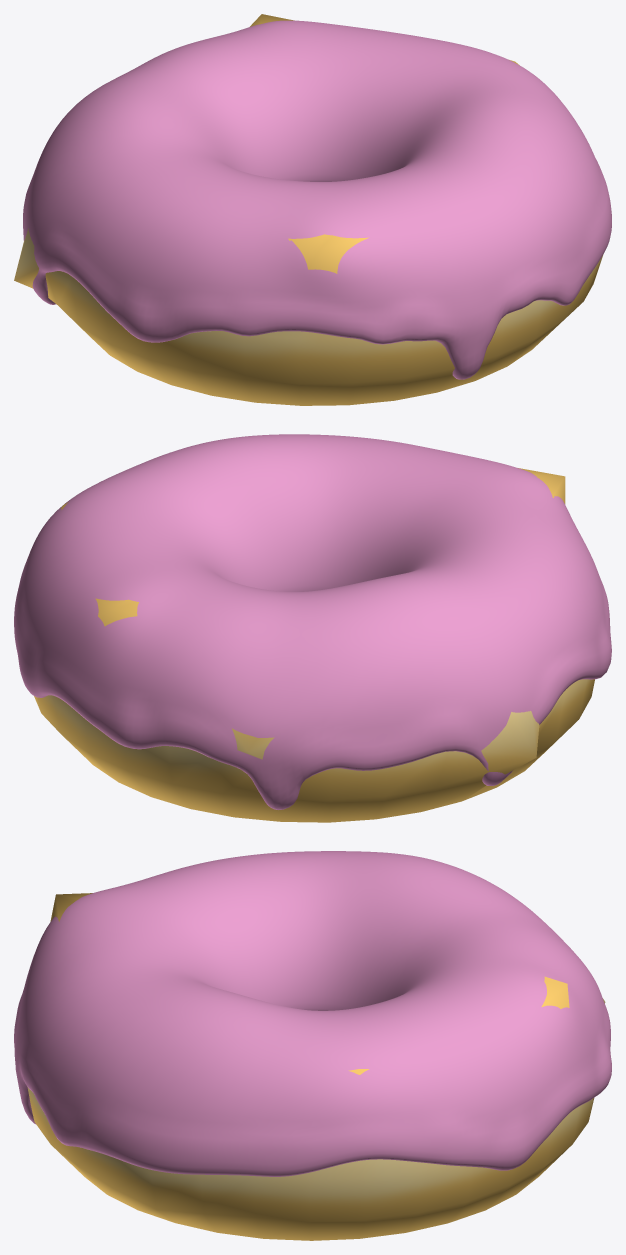
Rendered from donutcompressednoplane.glb.
3 renders of one model, top to bottom at view 1: azimuth 30°, elevation 25°; view 2: azimuth 150°, elevation 25°; view 3: azimuth 270°, elevation 25°, orthographic. The views are drawn at different scales.
Parts seen in each view (by area): view 1: icing, donout; view 2: icing, donout; view 3: icing, donout.
Boxes of the visible parts, box(x1,y1,x2,y2) form: icing: box(23, 20, 611, 379); donout: box(14, 14, 603, 405); icing: box(14, 434, 611, 809); donout: box(34, 468, 594, 822); icing: box(14, 851, 611, 1176); donout: box(27, 893, 605, 1240).
Bounding box in the file's own units: 1.35 × 0.533 × 1.32.
2 materials, 1 textured.
